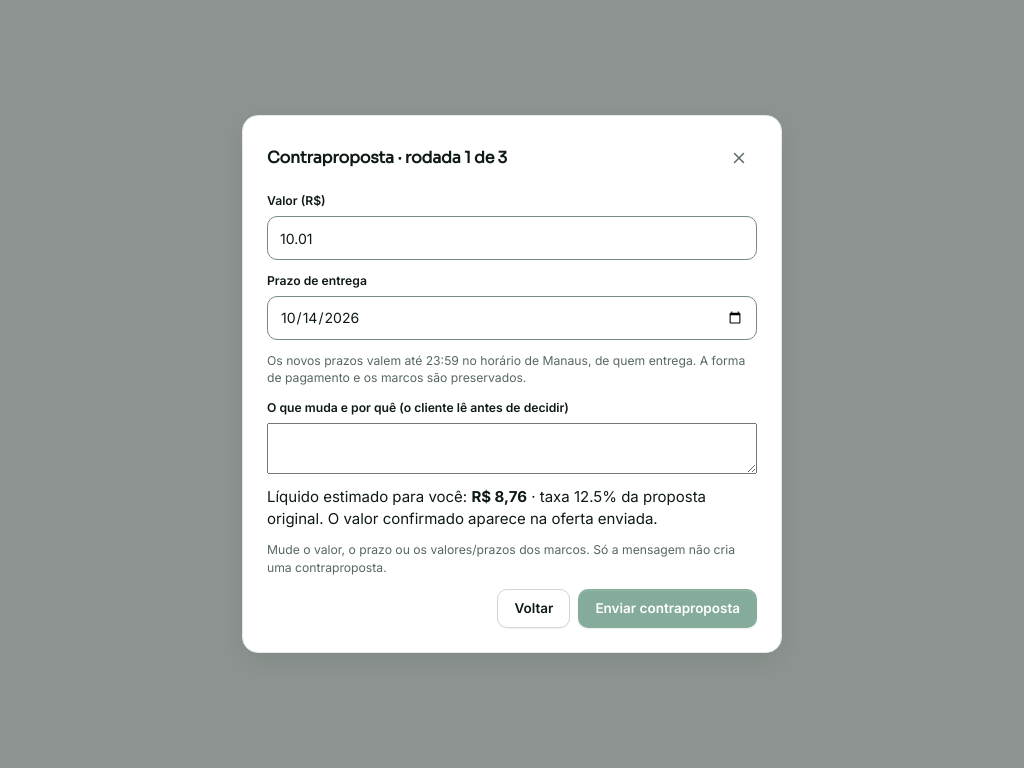
Test case: CounterOfferModal › a prévia do líquido usa a taxa histórica fracionária entregue pela API
Replace the text in the number field labelled "Valor (R$)" with "20" at (512, 238), box [267, 216, 757, 260]
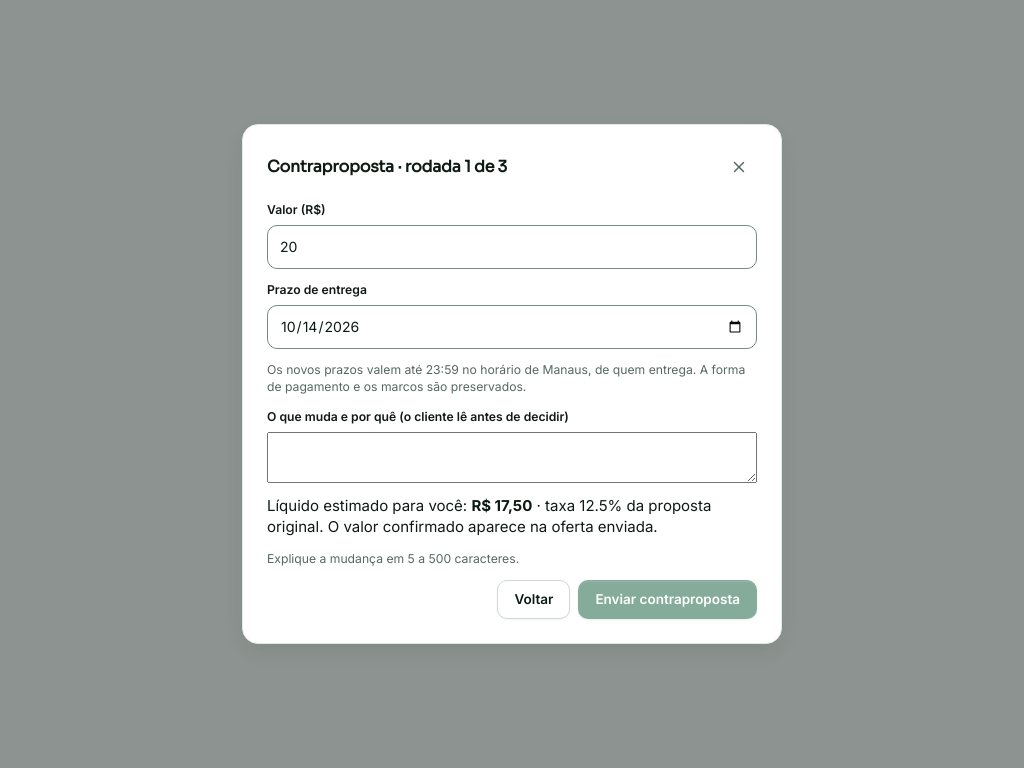
Expected: the text "Líquido estimado para você" shows "taxa 12.5% da proposta original", [267, 496, 711, 536]
Expected: the text "Líquido estimado para você" shows "R$ 17,50", [471, 496, 532, 515]
